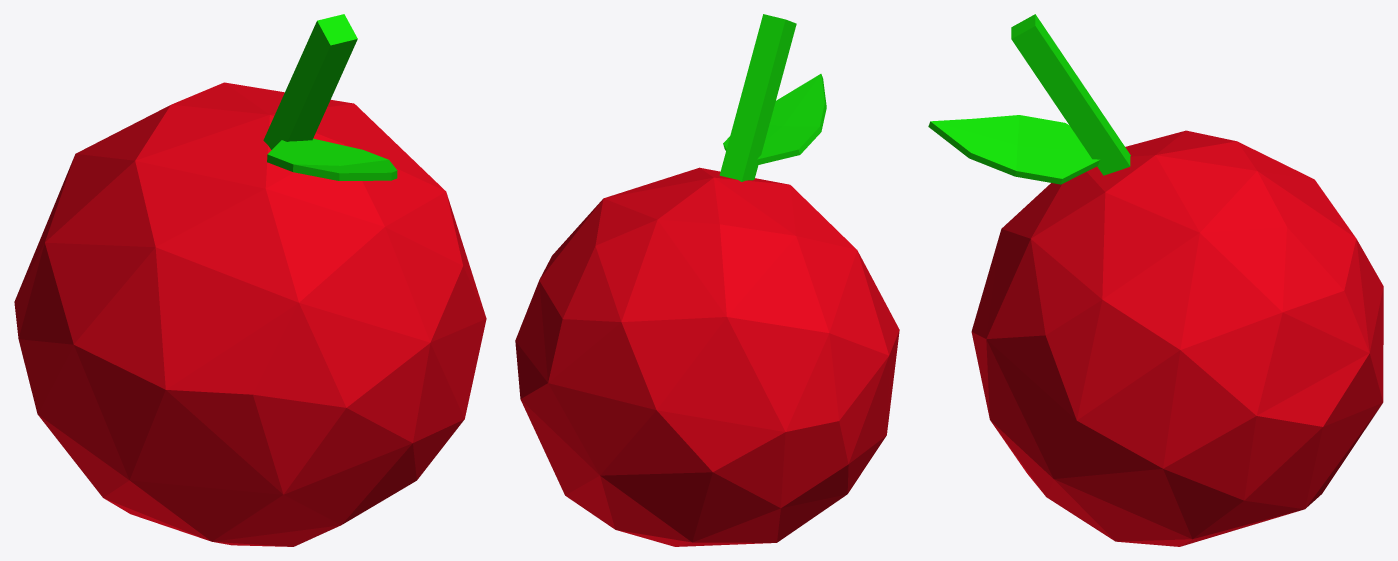
The model's file is Manzana.fbx.
3 renders of one model, left to right at view 1: azimuth 30°, elevation 25°; view 2: azimuth 150°, elevation 25°; view 3: azimuth 270°, elevation 25°, orthographic. The views are drawn at different scales.
Parts seen in each view (by area): view 1: Sphere; view 2: Sphere; view 3: Sphere.
Boxes of the visible parts, x1,y1,x2,y2 form: Sphere: (14, 14, 486, 546); Sphere: (515, 14, 899, 546); Sphere: (928, 14, 1383, 546).
Size of the model in its own units: 197 by 270 by 220.
